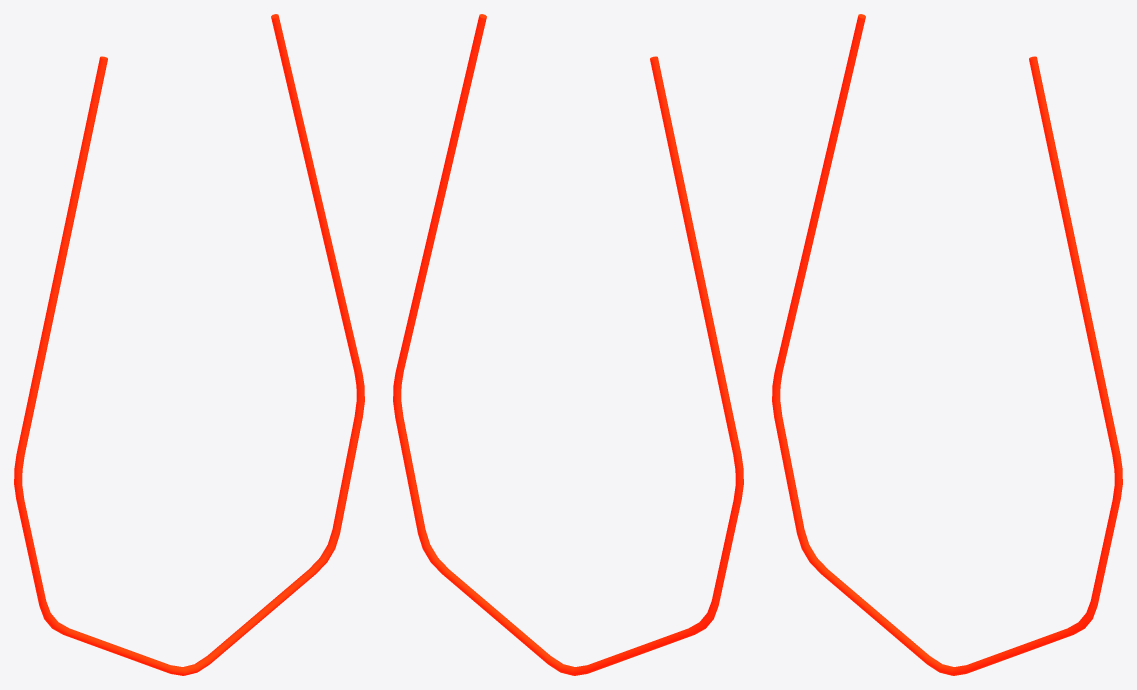
The model's file is Neck Wire.FBX.
The picture shows the model from 3 angles, left to right: view 1: azimuth 30°, elevation 25°; view 2: azimuth 150°, elevation 25°; view 3: azimuth 330°, elevation 25°; orthographic projection.
Visible parts, largest first — view 1: Neck Wire; view 2: Neck Wire; view 3: Neck Wire.
Part boxes in pixels (x1,y1,x2,y2): Neck Wire: (14, 14, 364, 675); Neck Wire: (393, 14, 743, 675); Neck Wire: (772, 14, 1122, 675).
Size of the model in its own units: 0.2394 by 0.4171 by 0.005.
